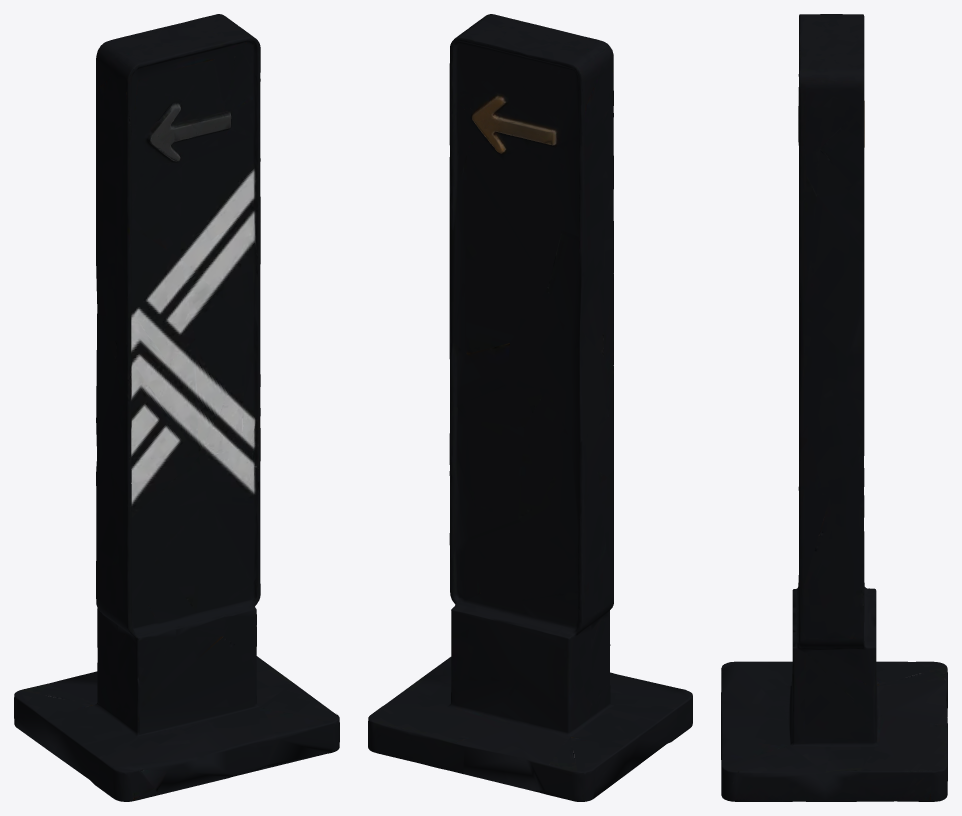
The model's file is becoTotem.glb.
The picture shows the model from 3 angles, left to right: view 1: azimuth 30°, elevation 25°; view 2: azimuth 150°, elevation 25°; view 3: azimuth 270°, elevation 25°; orthographic projection.
Bounding box in the file's own units: 0.6387 × 1.9 × 0.5534.
1 material, 1 textured.
